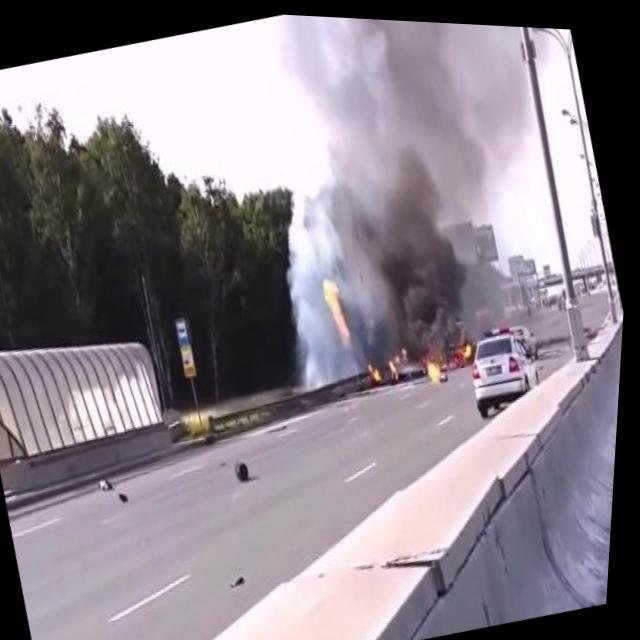fire: (317, 266, 363, 347), (421, 326, 484, 384), (365, 333, 421, 388)
